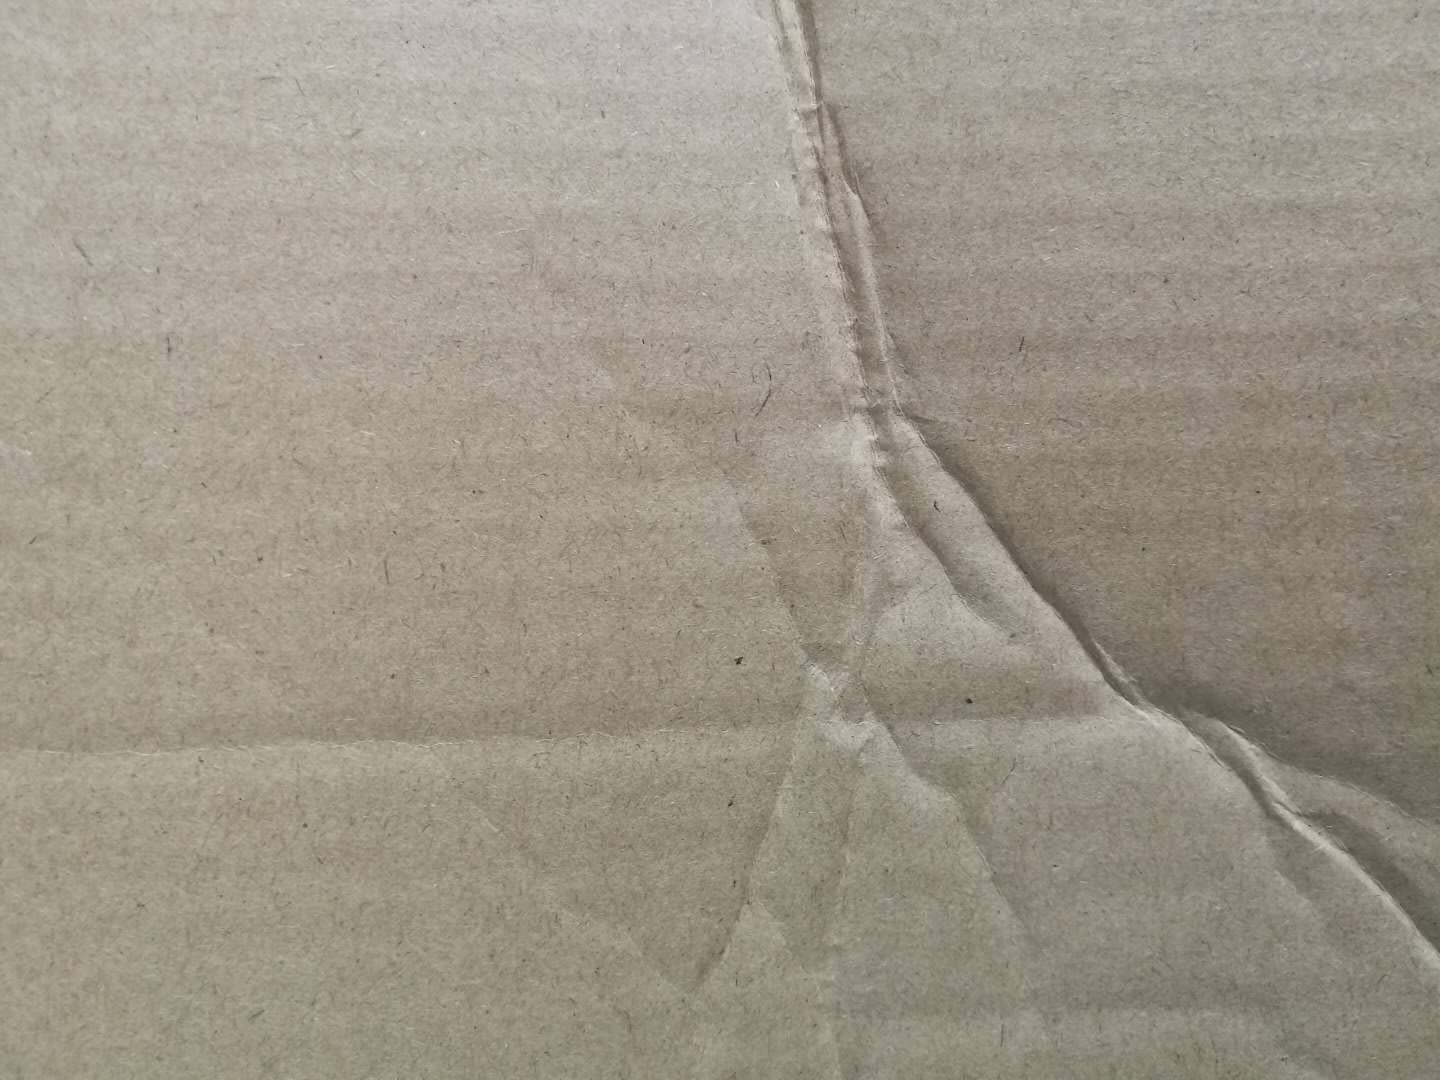defect: (668, 2, 1440, 1075), (1, 644, 1210, 832)
